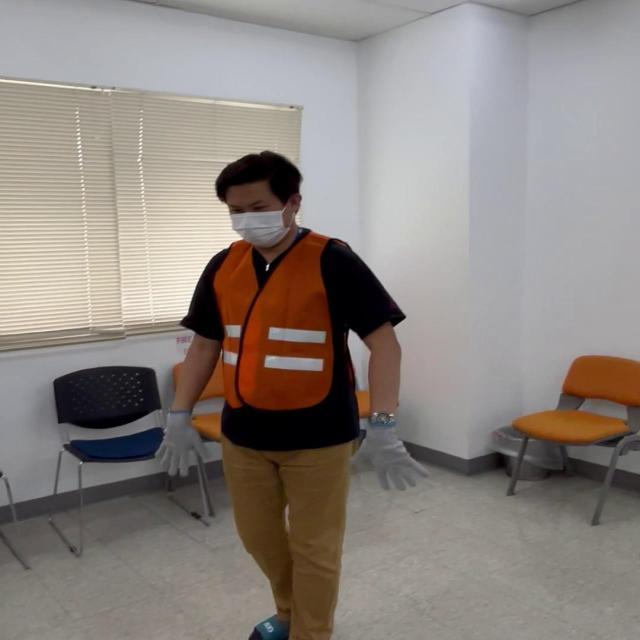gloved_hand: (345, 421, 425, 492)
